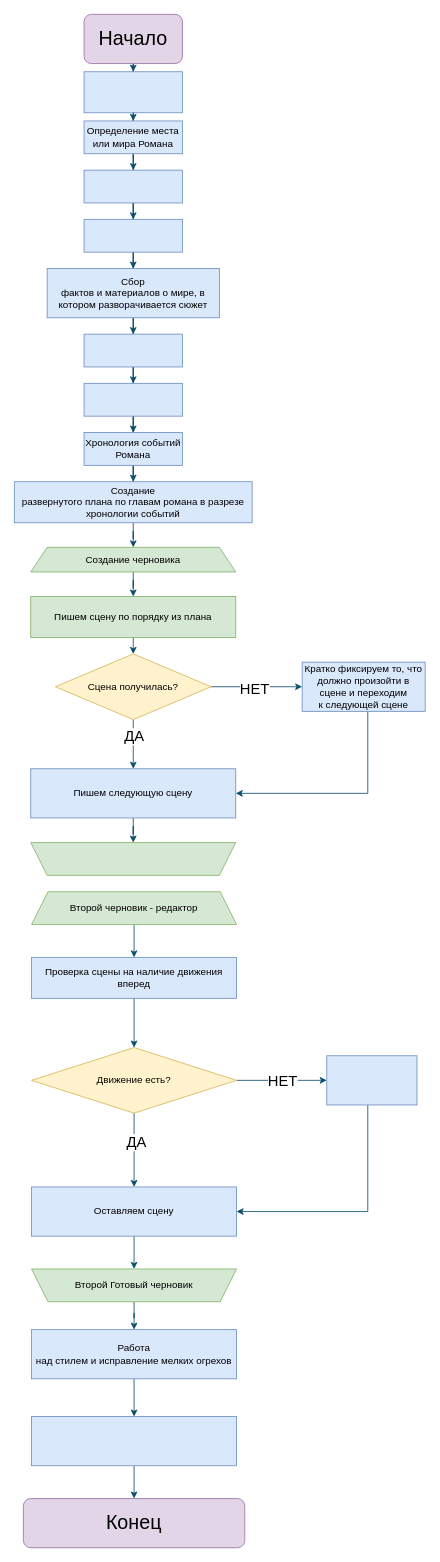
Some shapes in this 440 by 1562 pixel diagram are drawn without their labels. Here are the shapes that lost their labels. From the top down, the centre of each, then its label:
At pixel 132 92: "Определение тематики романа".
At pixel 132 186: "Краткое описание идеи романа".
At pixel 132 235: "Описание сюжетной линии".
At pixel 132 350: "Определение персонажей Романа".
At pixel 132 399: "Краткое описание персонажей романа".
At pixel 133 858: "Готовый черновки".
At pixel 371 1080: "Удаляем".
At pixel 134 1441: "Коррекатура".
